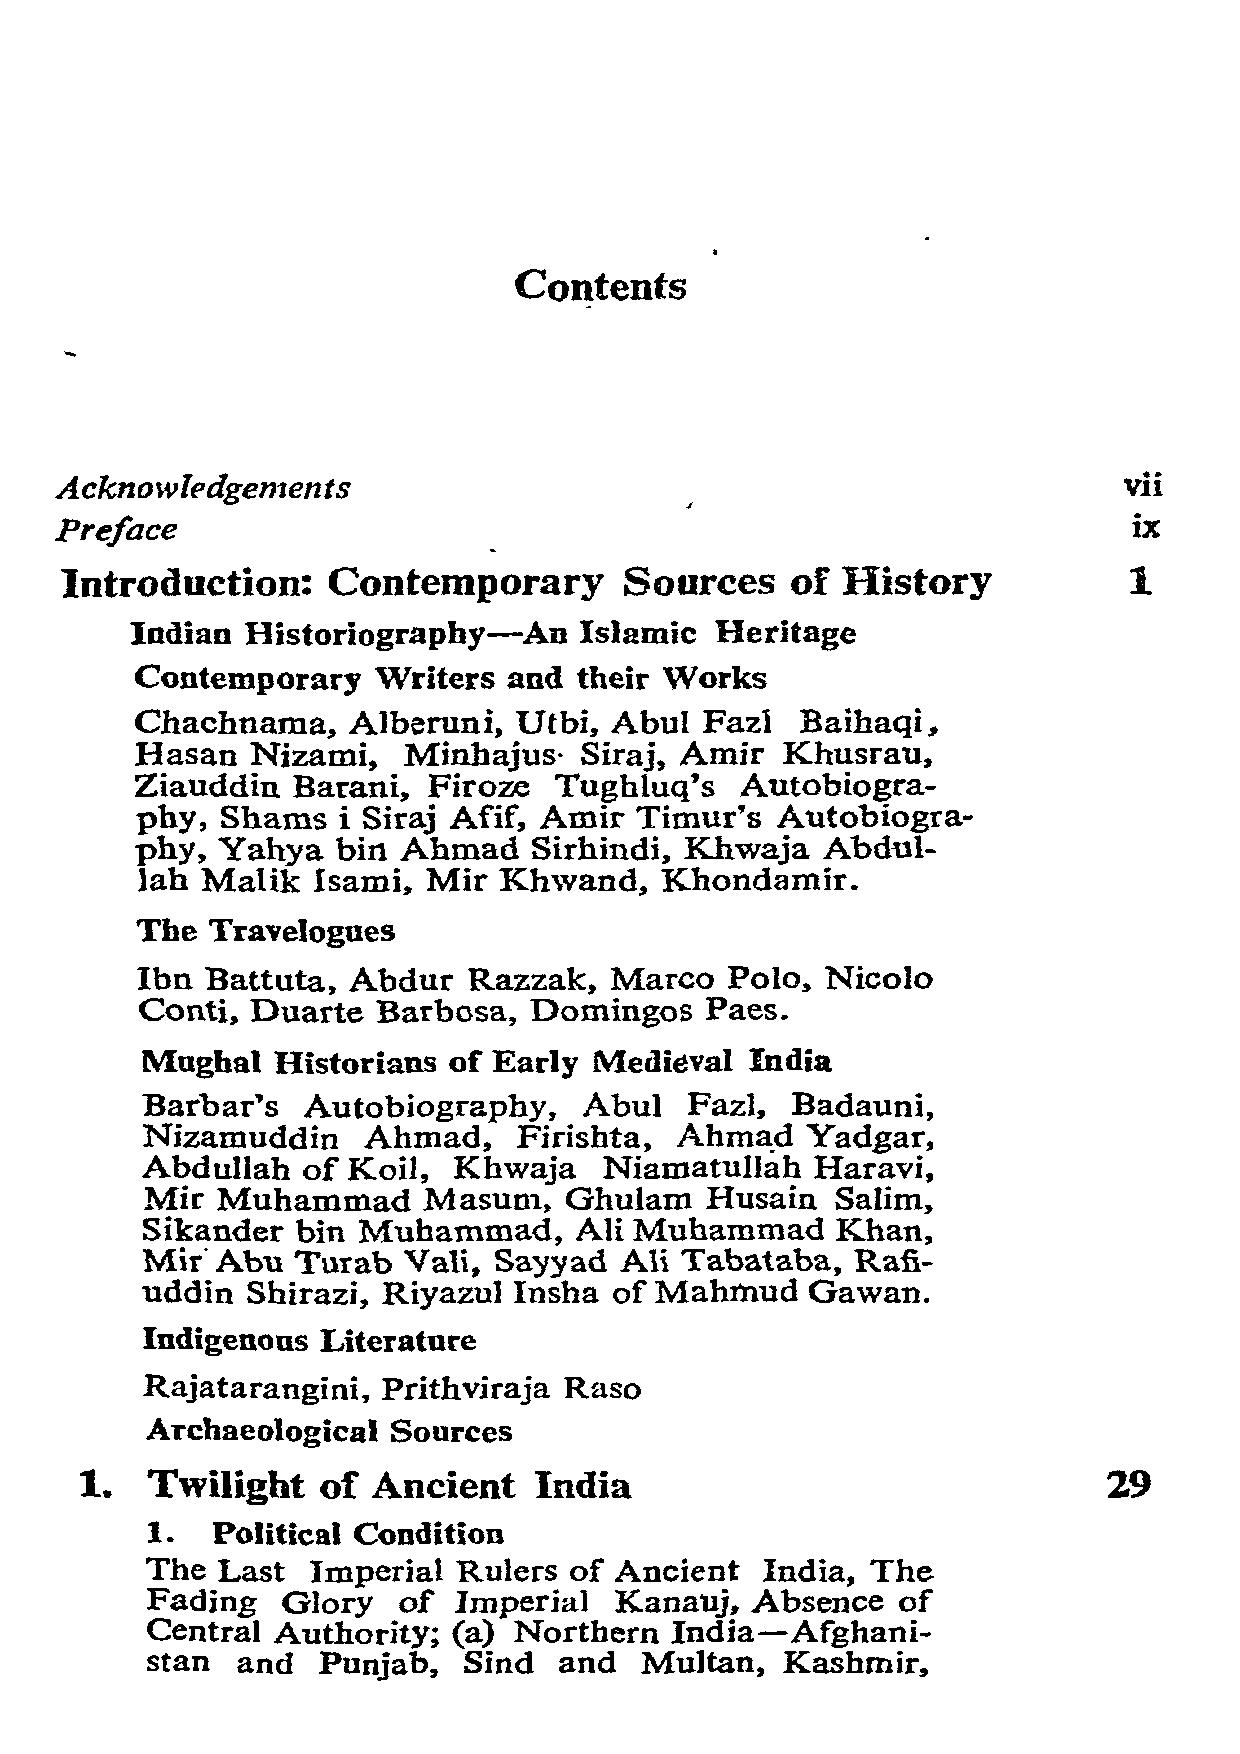TOC_chapter: (56, 564, 1013, 1449), (78, 1465, 946, 1690), (50, 464, 362, 503), (52, 515, 174, 546)
TOC_pagenumber: (1096, 1465, 1153, 1516), (1121, 462, 1168, 497), (1127, 510, 1172, 545), (1127, 558, 1158, 600)
chapter: (515, 255, 698, 311)
